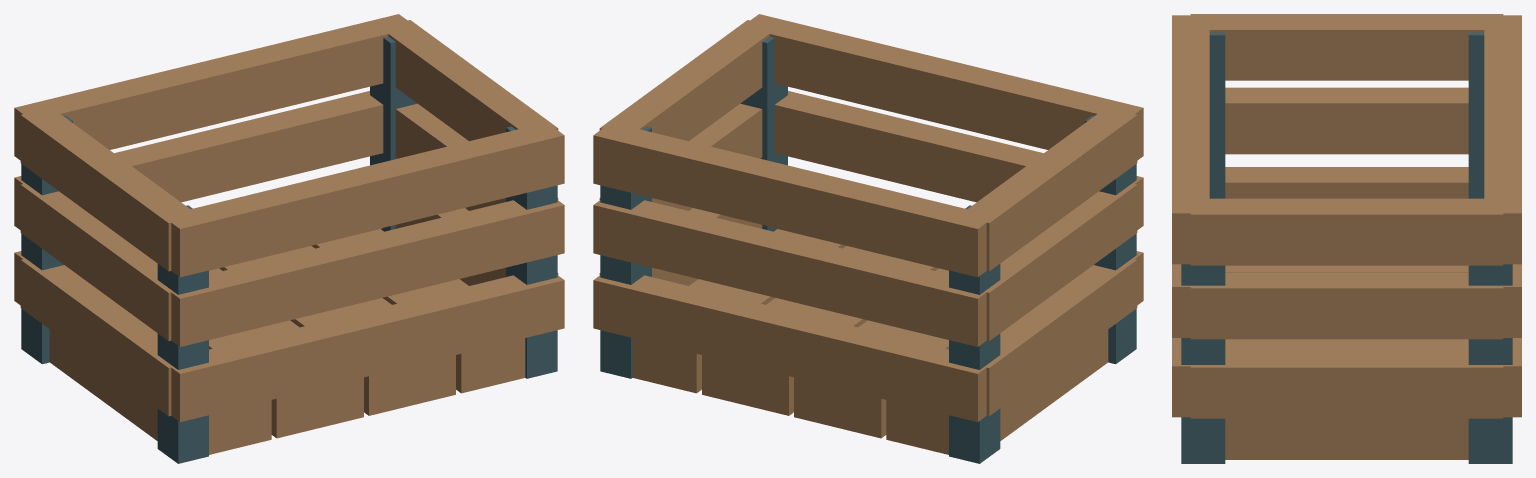
The model's file is AC_Open_Crate.glb.
The picture shows the model from 3 angles, left to right: view 1: azimuth 30°, elevation 25°; view 2: azimuth 150°, elevation 25°; view 3: azimuth 270°, elevation 25°; orthographic projection. The views are drawn at different scales.
Parts seen in each view (by area): view 1: AC_Open_Crate; view 2: AC_Open_Crate; view 3: AC_Open_Crate.
Boxes of the visible parts, <box> form: AC_Open_Crate: <box>14,14,564,463</box>; AC_Open_Crate: <box>593,14,1143,463</box>; AC_Open_Crate: <box>1172,14,1521,463</box>.
Size of the model in its own units: 0.76 by 0.445 by 0.56.
